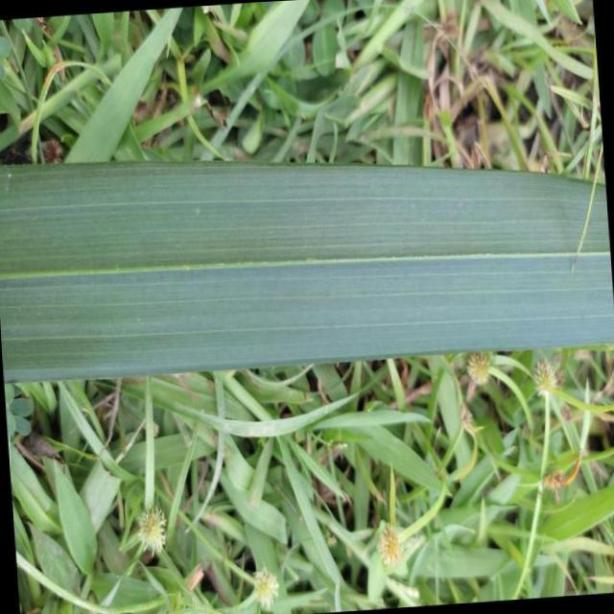Healthy: (5, 163, 614, 379)
